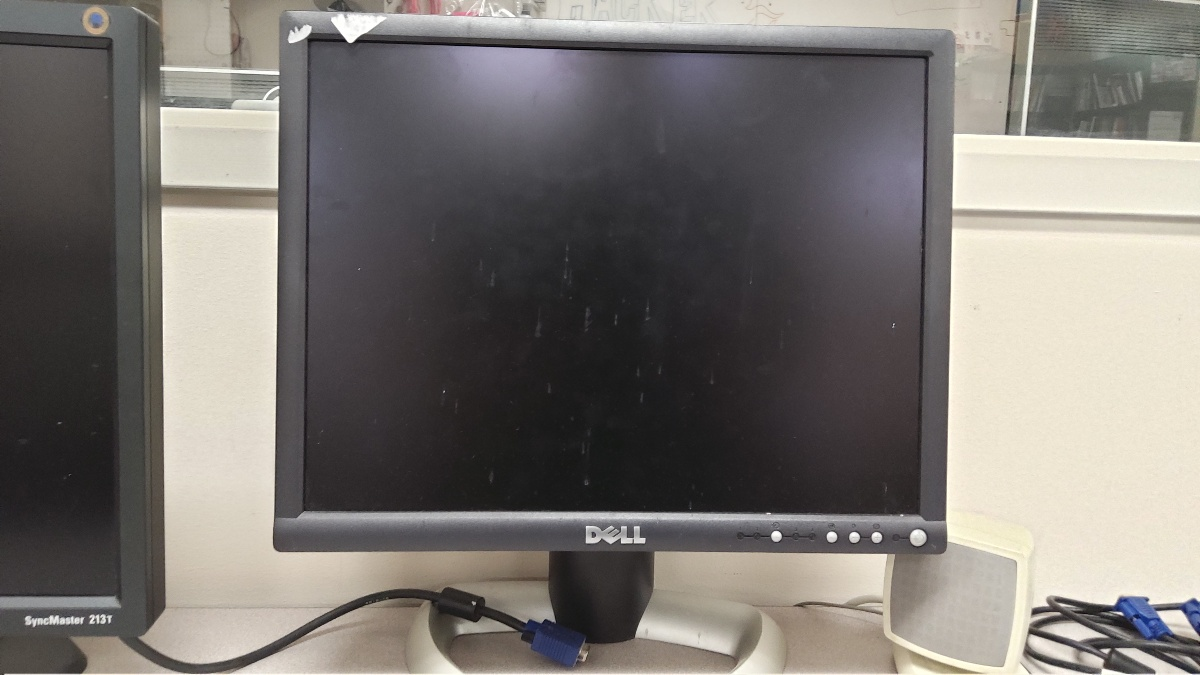monitor: (260, 5, 965, 562)
